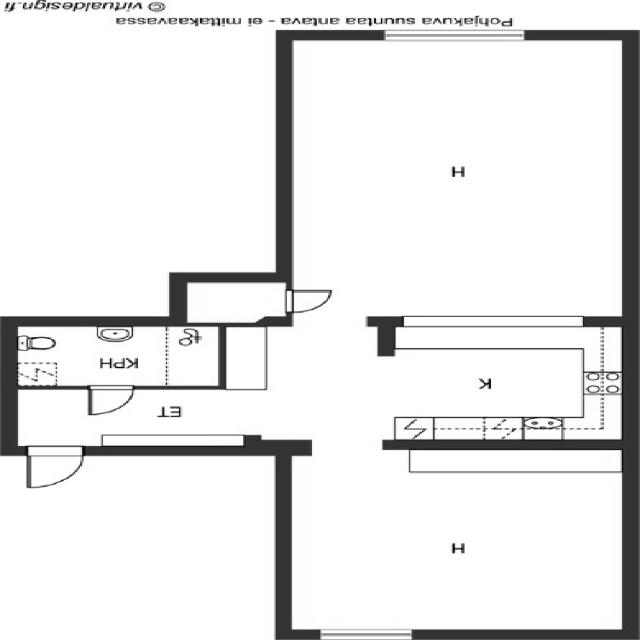door: (22, 444, 85, 491), (270, 284, 338, 316), (84, 383, 134, 417)
window: (390, 307, 602, 336), (370, 23, 535, 49), (308, 623, 421, 640)
zone: (294, 44, 628, 310), (284, 468, 629, 636), (384, 326, 630, 444), (4, 387, 266, 453), (11, 323, 224, 388)
